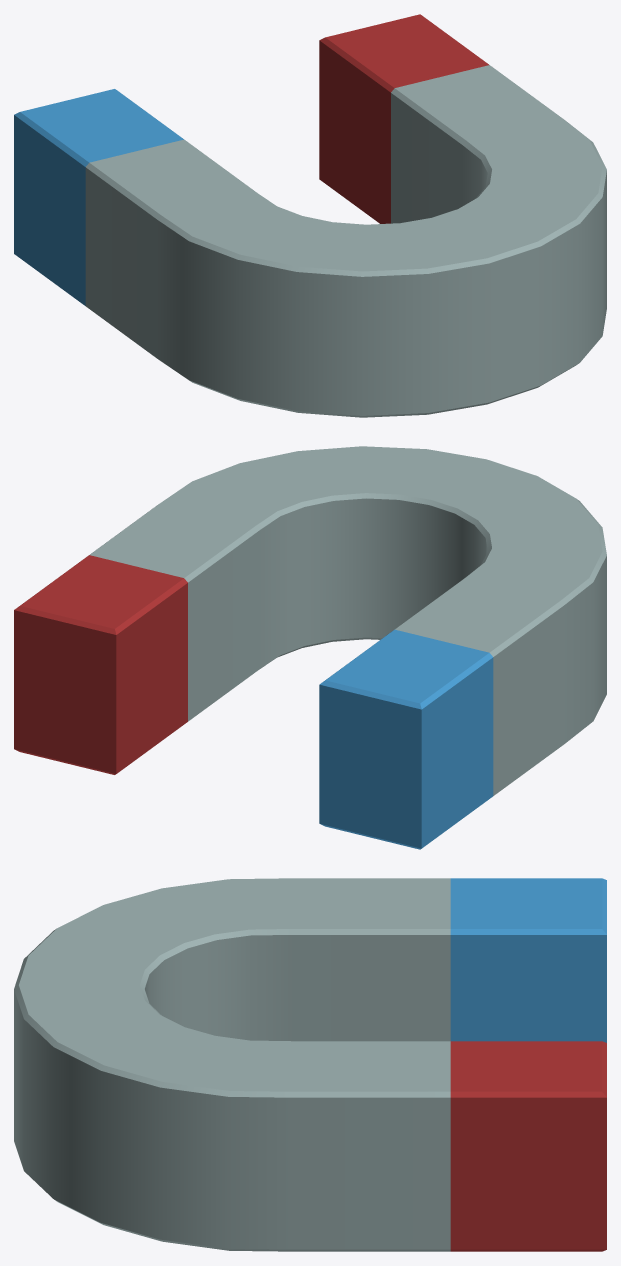
File: iman.fbx
3 renders of one model, top to bottom at view 1: azimuth 30°, elevation 25°; view 2: azimuth 150°, elevation 25°; view 3: azimuth 270°, elevation 25°, orthographic. The views are drawn at different scales.
Parts seen in each view (by area): view 1: Arc001.001; view 2: Arc001.001; view 3: Arc001.001.
Part boxes in pixels (x1,y1,x2,y2): Arc001.001: [14, 14, 606, 417]; Arc001.001: [14, 446, 606, 849]; Arc001.001: [14, 878, 606, 1251].
Bounding box in the file's own units: 40.45 × 13.86 × 46.59.
